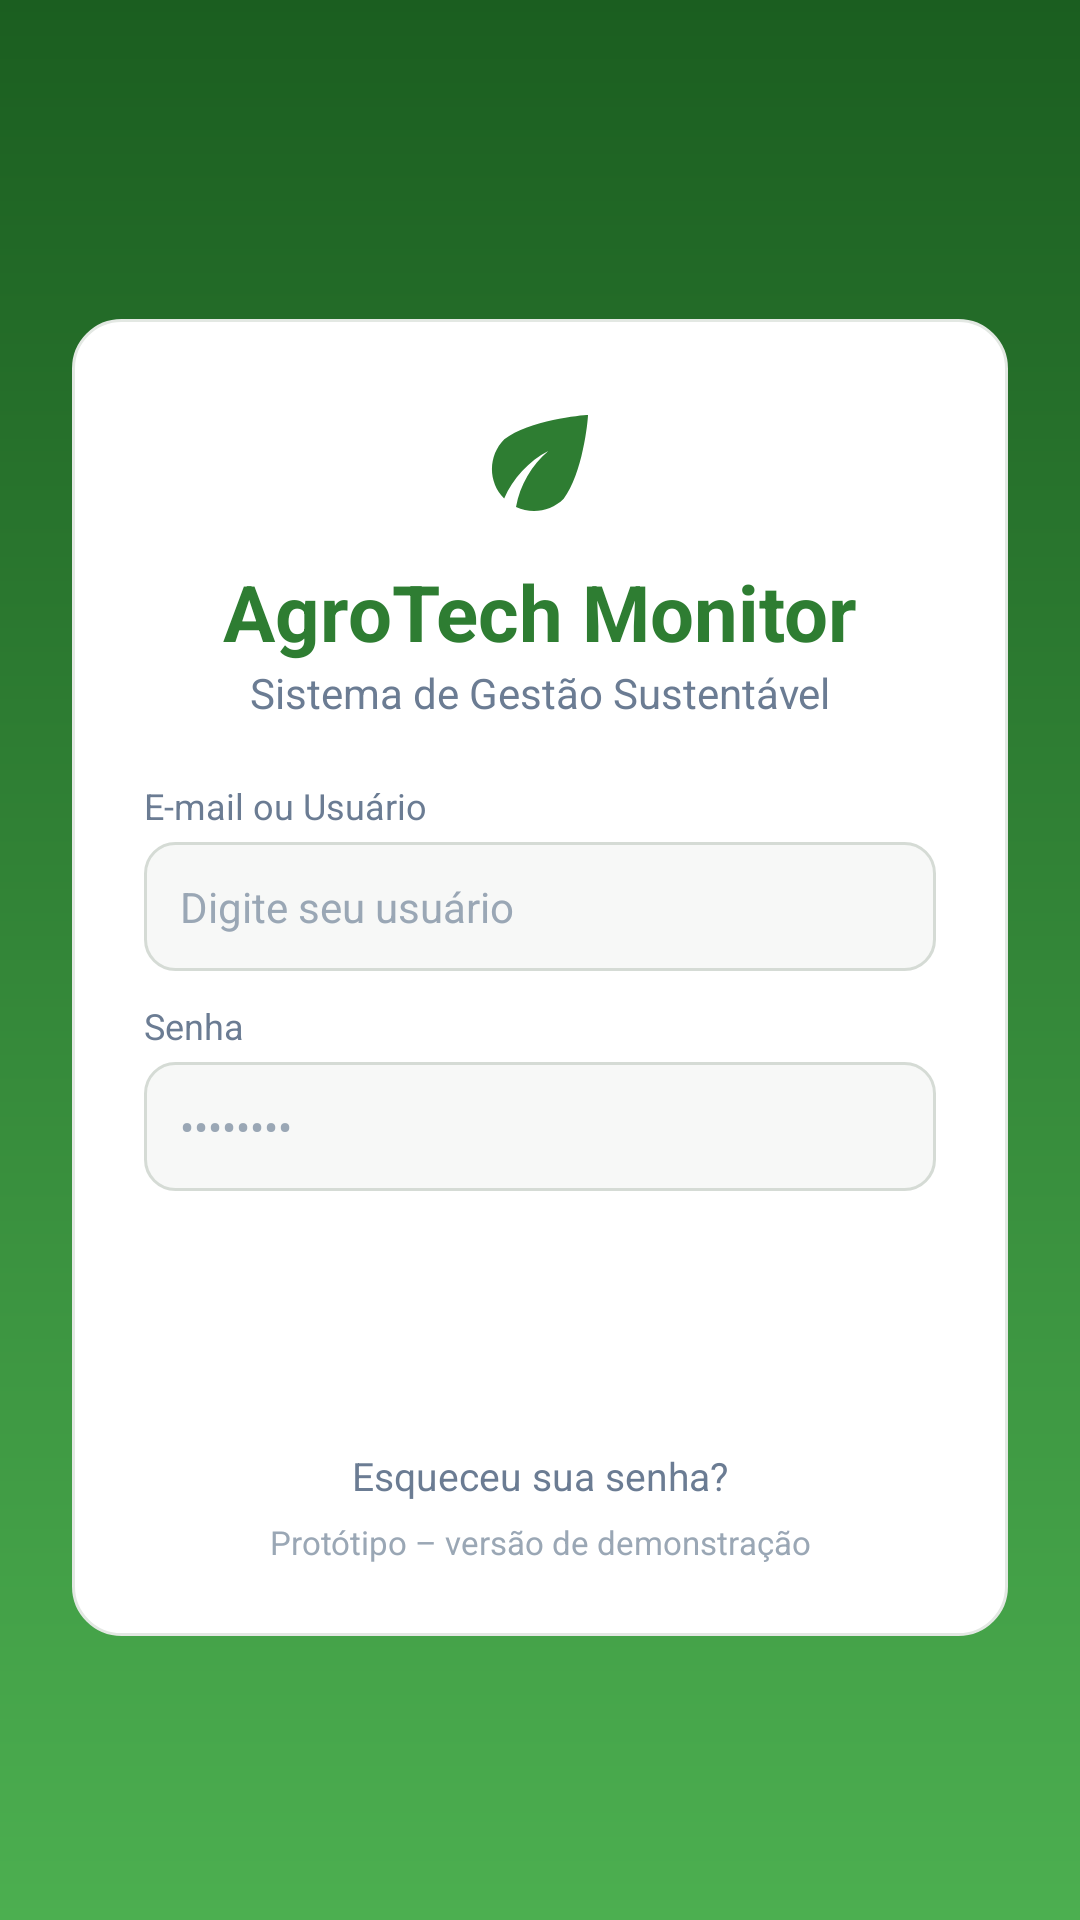

Point at icon controls on the screen. Image size 1080 x 1920, points as (x,y).
leaf: (540,463)
